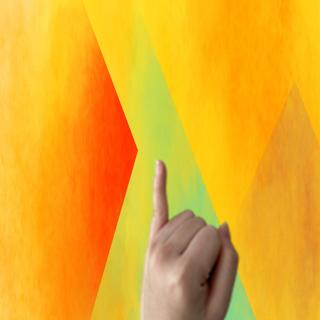Fine: (142, 158, 250, 318)
